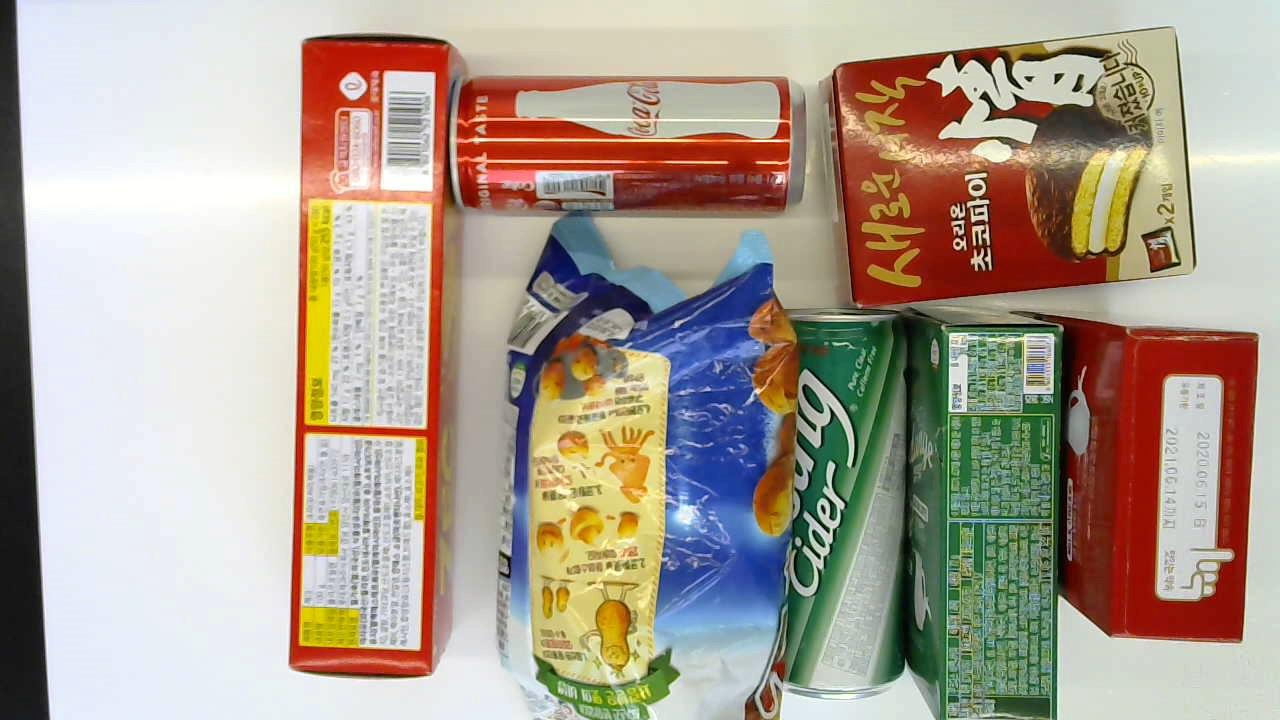chocopie: (823, 25, 1196, 307)
cidar: (775, 307, 909, 702)
coke: (447, 75, 806, 214)
couque_coffee: (904, 301, 1060, 718)
couque_white: (1060, 311, 1263, 643)
squid_peanut: (493, 225, 796, 720)
zec: (286, 35, 465, 674)
